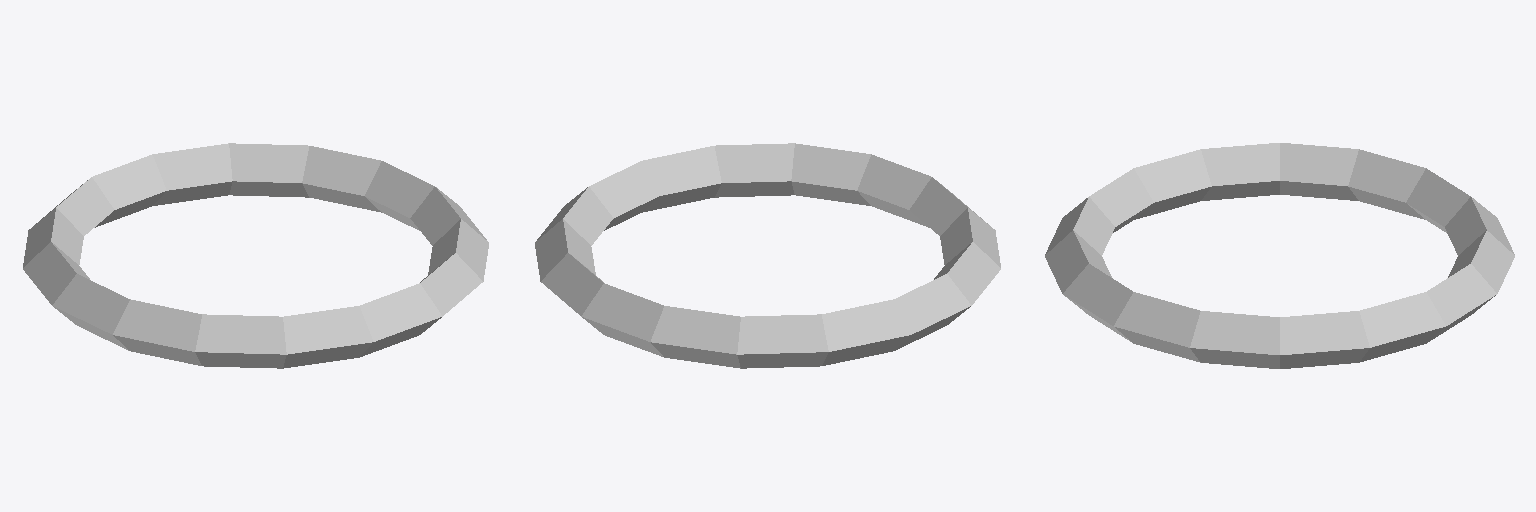
File: angel1.obj
3 renders of one model, left to right at view 1: azimuth 30°, elevation 25°; view 2: azimuth 150°, elevation 25°; view 3: azimuth 270°, elevation 25°, orthographic.
Visible parts, largest first — view 1: Torus; view 2: Torus; view 3: Torus.
Part boxes in pixels (x1,y1,x2,y2): Torus: (23,143,488,368); Torus: (535,143,1000,368); Torus: (1045,143,1514,368).
Bounding box in the file's own units: 4.1 × 0.5 × 4.1.